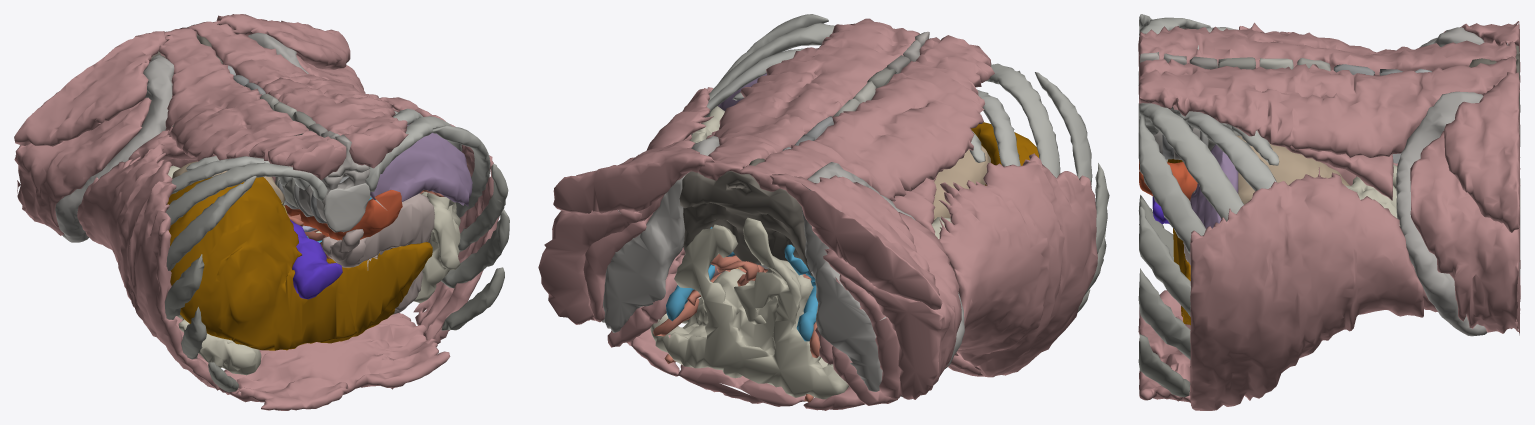
Rendered from SPL-Abdominal-Atlas.glb.
The picture shows the model from 3 angles, left to right: view 1: azimuth 30°, elevation 25°; view 2: azimuth 150°, elevation 25°; view 3: azimuth 270°, elevation 25°; orthographic projection. The views are drawn at different scales.
Visible parts, largest first — view 1: liver, right erector spinae muscle, right external oblique muscle, rectus abdominis muscle, left erector spinae muscle, right gluteus maximus muscle, right gluteus medius muscle, colon and ileum, spleen, Pelvis, stomach and duodenum, Rib10 (+16 smaller); view 2: right external oblique muscle, right erector spinae muscle, colon and ileum, left erector spinae muscle, Pelvis, right gluteus maximus muscle, right gluteus medius muscle, Sacrum, left gluteus maximus muscle, left gluteus medius muscle, Rib10, Rib9 (+18 smaller); view 3: left external oblique muscle, left erector spinae muscle, left gluteus medius muscle, right erector spinae muscle, left gluteus maximus muscle, Pelvis, Rib10, Rib9, Rib11, rectus abdominis muscle, Rib8, Rib7 (+12 smaller).
Part boxes in pixels (box(x1,y1,x2,y2)): liver: box(167, 177, 432, 350); right erector spinae muscle: box(159, 26, 346, 180); right external oblique muscle: box(77, 144, 239, 394); rectus abdominis muscle: box(224, 312, 450, 410); left erector spinae muscle: box(190, 20, 408, 168); right gluteus maximus muscle: box(14, 31, 170, 146); right gluteus medius muscle: box(14, 97, 151, 235); colon and ileum: box(168, 165, 460, 375); spleen: box(370, 125, 472, 206); Pelvis: box(55, 32, 308, 242); stomach and duodenum: box(321, 193, 434, 314); Rib10: box(166, 116, 462, 225); right external oblique muscle: box(938, 153, 1097, 377); right erector spinae muscle: box(739, 35, 994, 201); colon and ileum: box(650, 106, 951, 399); left erector spinae muscle: box(698, 18, 919, 180); Pelvis: box(601, 135, 964, 396); right gluteus maximus muscle: box(769, 173, 942, 309); right gluteus medius muscle: box(823, 212, 961, 399); Sacrum: box(679, 158, 813, 276); left gluteus maximus muscle: box(553, 139, 714, 213); left gluteus medius muscle: box(538, 195, 663, 324); Rib10: box(707, 23, 1060, 177); Rib9: box(708, 14, 1092, 184); left external oblique muscle: box(1190, 167, 1423, 410); left erector spinae muscle: box(1138, 56, 1516, 157); left gluteus medius muscle: box(1410, 131, 1520, 335); right erector spinae muscle: box(1138, 26, 1516, 75); left gluteus maximus muscle: box(1444, 72, 1519, 232); Pelvis: box(1396, 27, 1520, 336); Rib10: box(1139, 17, 1244, 221); Rib9: box(1138, 14, 1205, 253); Rib11: box(1173, 27, 1276, 191); rectus abdominis muscle: box(1138, 260, 1520, 402); Rib8: box(1138, 71, 1190, 316); Rib7: box(1138, 159, 1190, 359).
Size of the model in its own units: 206 by 150 by 167.
